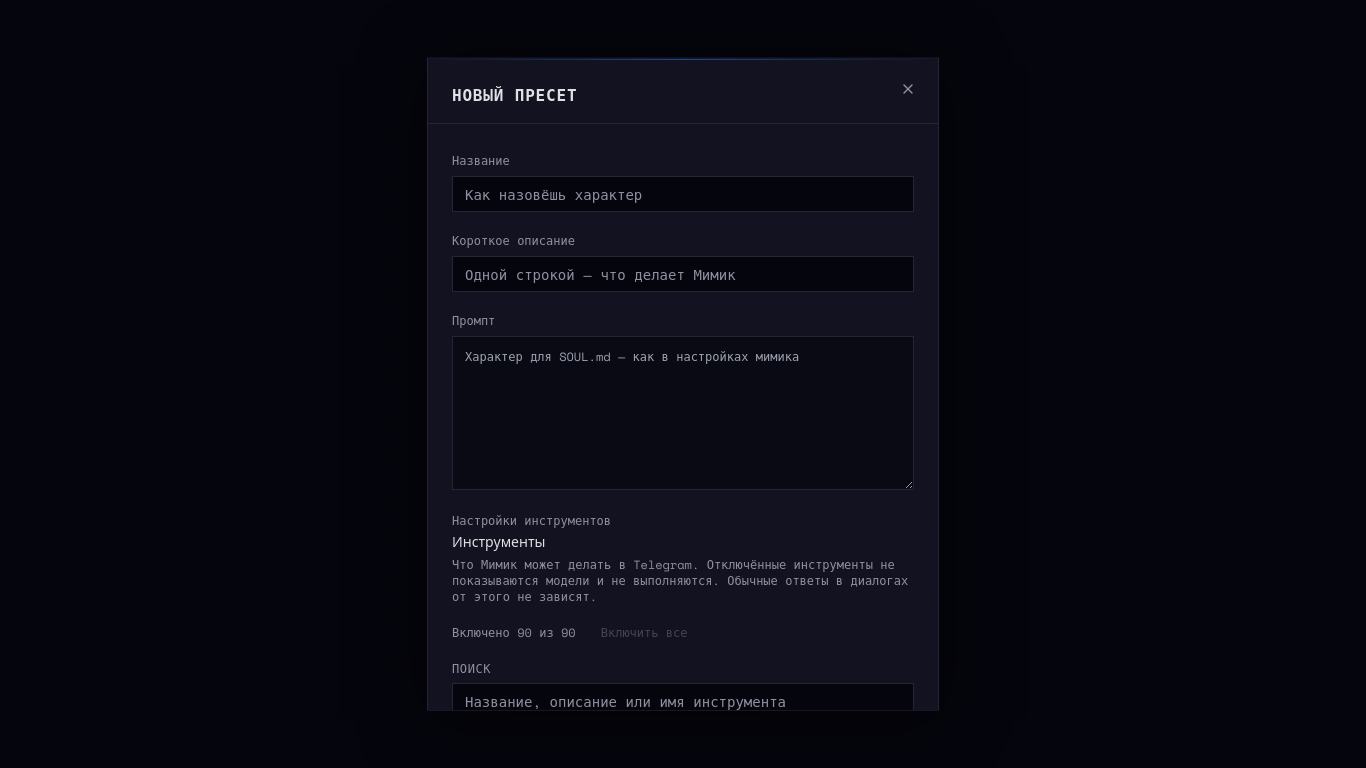
Test: PresetEditorDialog › ошибка сохранения остаётся на экране
Type "Олд" into the field labelled "Название" at (683, 194), box [452,176,914,212]
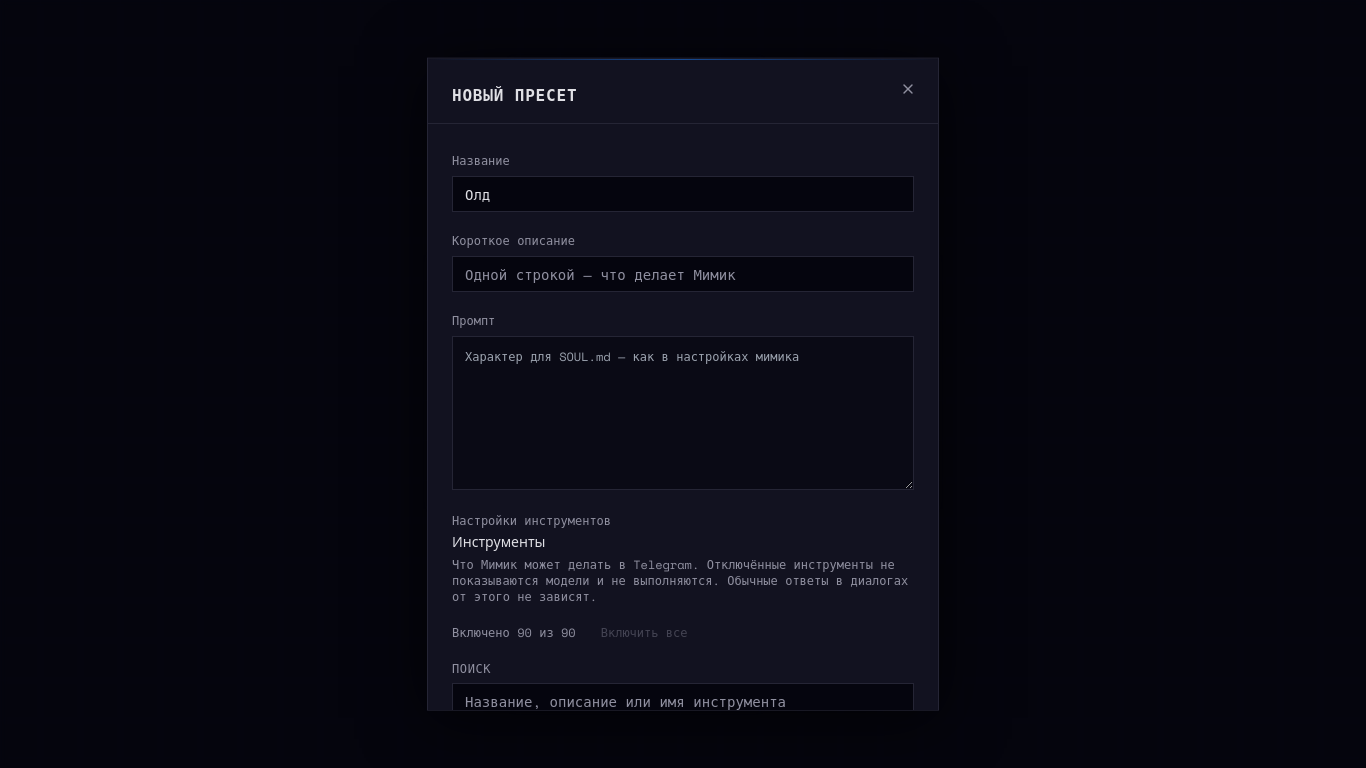
Type "Ты олд..." into the text box labelled "Промпт" at (683, 413), box [452,336,914,490]
(page scrolled)
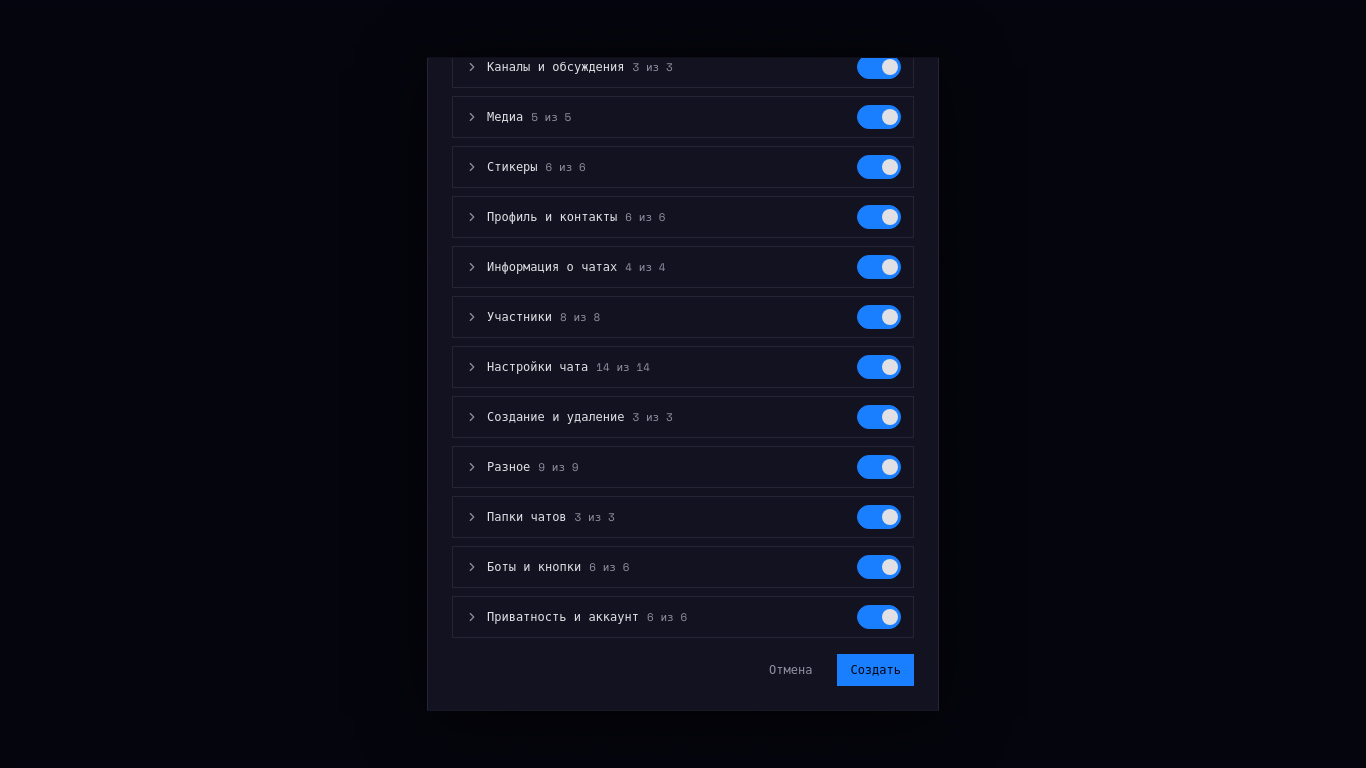
Click the button with test id "preset-editor-save" at (876, 670), box [837,654,914,686]
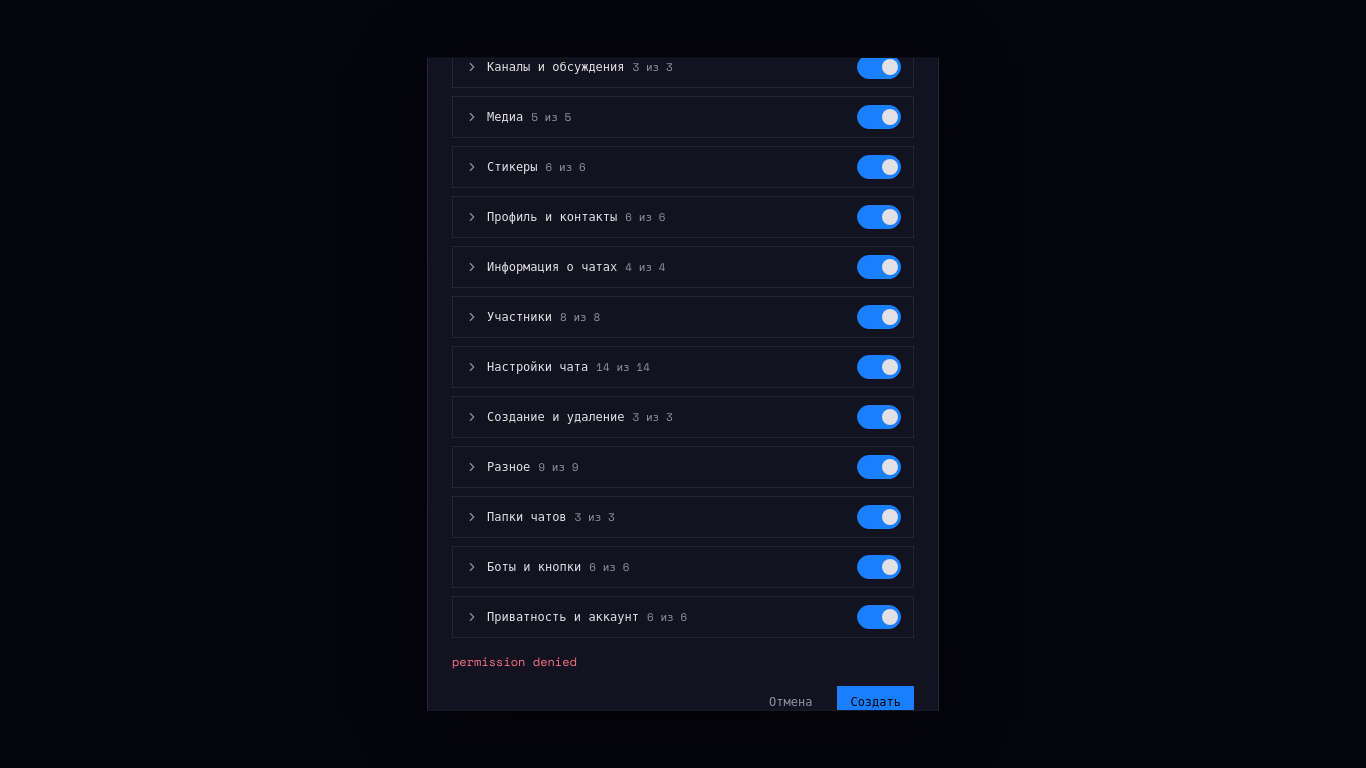
Expected: the message with test id "preset-editor-error" reads "permission denied", [452,653,577,670]
